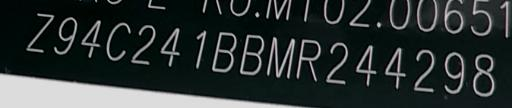letter: (22, 9, 60, 60), (294, 36, 336, 82), (127, 23, 165, 69), (469, 50, 503, 97), (102, 18, 136, 64), (236, 29, 270, 75), (265, 35, 299, 79), (410, 46, 440, 95), (440, 48, 470, 97), (380, 44, 410, 92), (52, 13, 82, 59), (210, 28, 238, 74), (323, 40, 351, 86), (77, 15, 105, 60), (185, 26, 213, 71), (158, 26, 186, 66), (354, 42, 378, 86)
